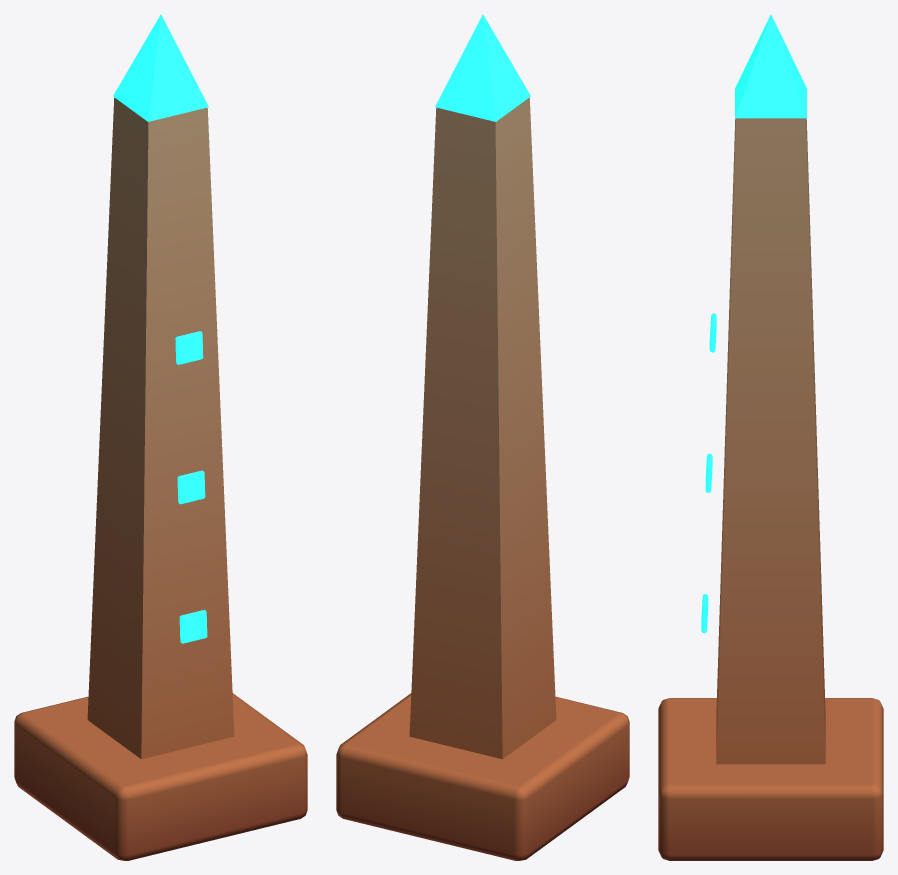
The model's file is ENV_Obelisk.glb.
The picture shows the model from 3 angles, left to right: view 1: azimuth 30°, elevation 25°; view 2: azimuth 150°, elevation 25°; view 3: azimuth 270°, elevation 25°; orthographic projection.
Visible parts, largest first — view 1: Obelisk, Tip, Glyph_1, Glyph_0, Glyph_2; view 2: Obelisk, Tip; view 3: Obelisk, Tip.
Boxes of the visible parts, x1,y1,x2,y2 form: Obelisk: (14, 97, 307, 860); Tip: (113, 14, 208, 121); Glyph_1: (177, 470, 205, 504); Glyph_0: (179, 610, 207, 643); Glyph_2: (175, 331, 203, 364); Obelisk: (336, 97, 629, 860); Tip: (435, 14, 530, 121); Obelisk: (658, 118, 883, 860); Tip: (735, 14, 806, 118).
Size of the model in its own units: 1.6 by 6.3 by 1.6.
